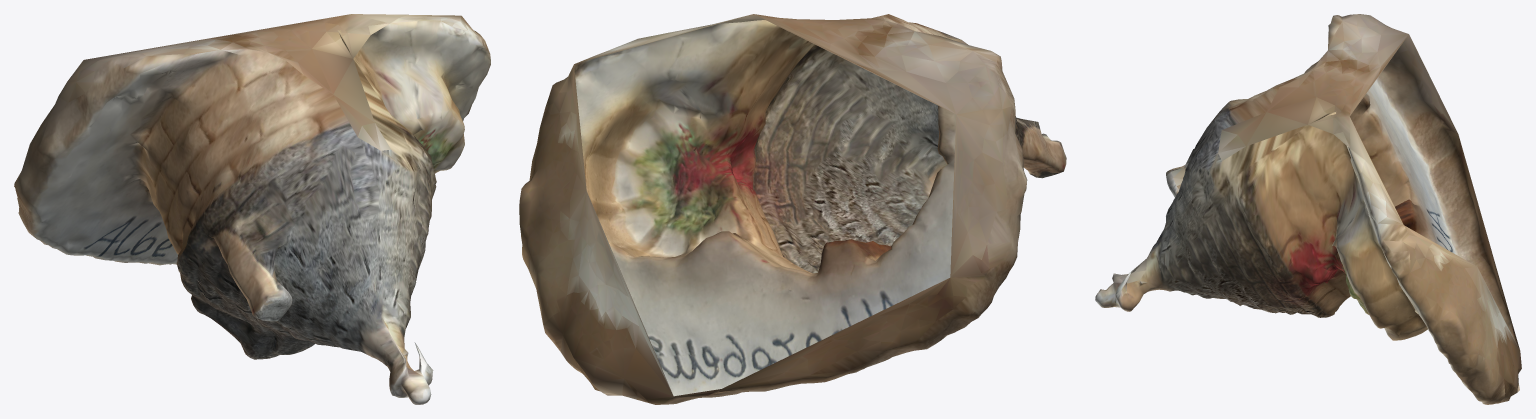
The picture shows the model from 3 angles, left to right: view 1: azimuth 30°, elevation 25°; view 2: azimuth 150°, elevation 25°; view 3: azimuth 270°, elevation 25°; orthographic projection. The views are drawn at different scales.
Visible parts, largest first — view 1: Object_2; view 2: Object_2; view 3: Object_2.
Boxes of the visible parts, x1,y1,x2,y2 form: Object_2: (14,14,490,404); Object_2: (519,14,1066,404); Object_2: (1095,14,1521,404).
Bounding box in the file's own units: 11.12 × 7.56 × 10.61.
1 material, 1 textured.
